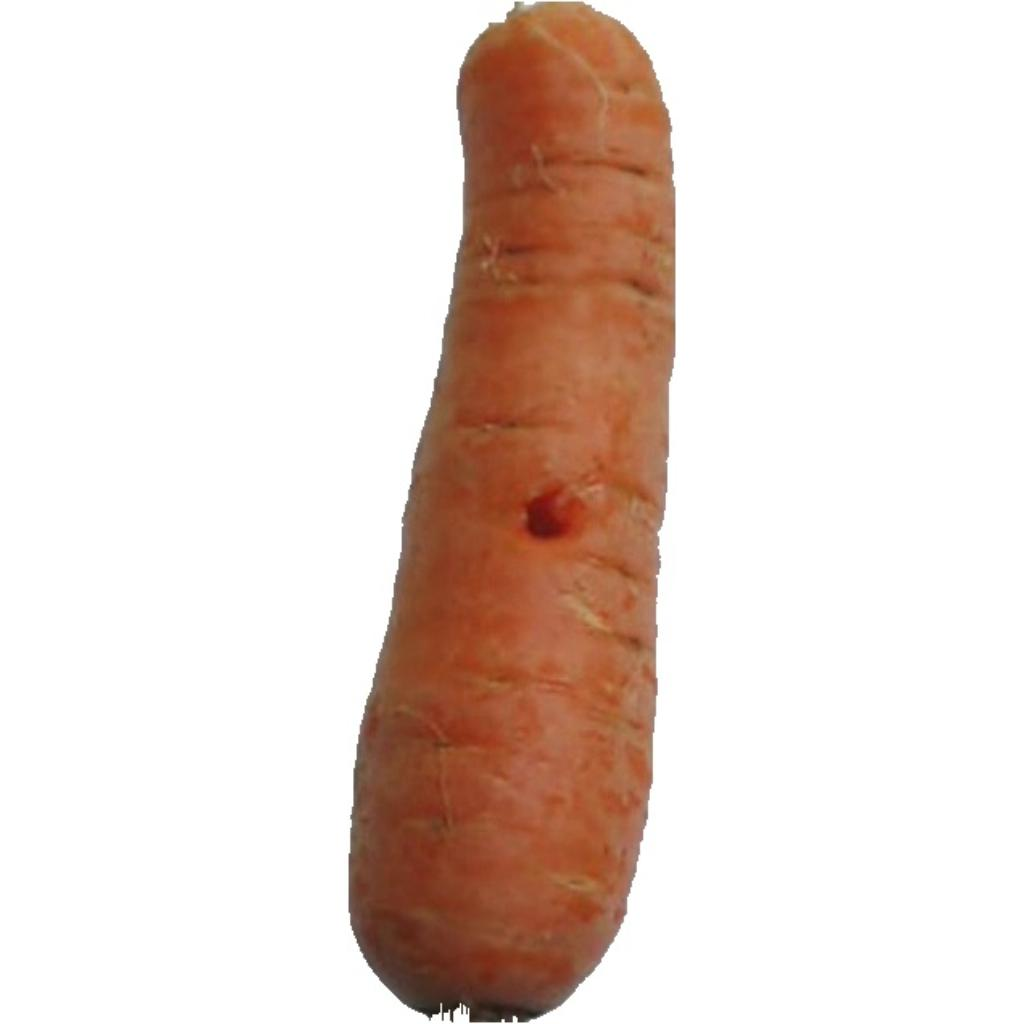carrot: (351, 4, 673, 1020)
